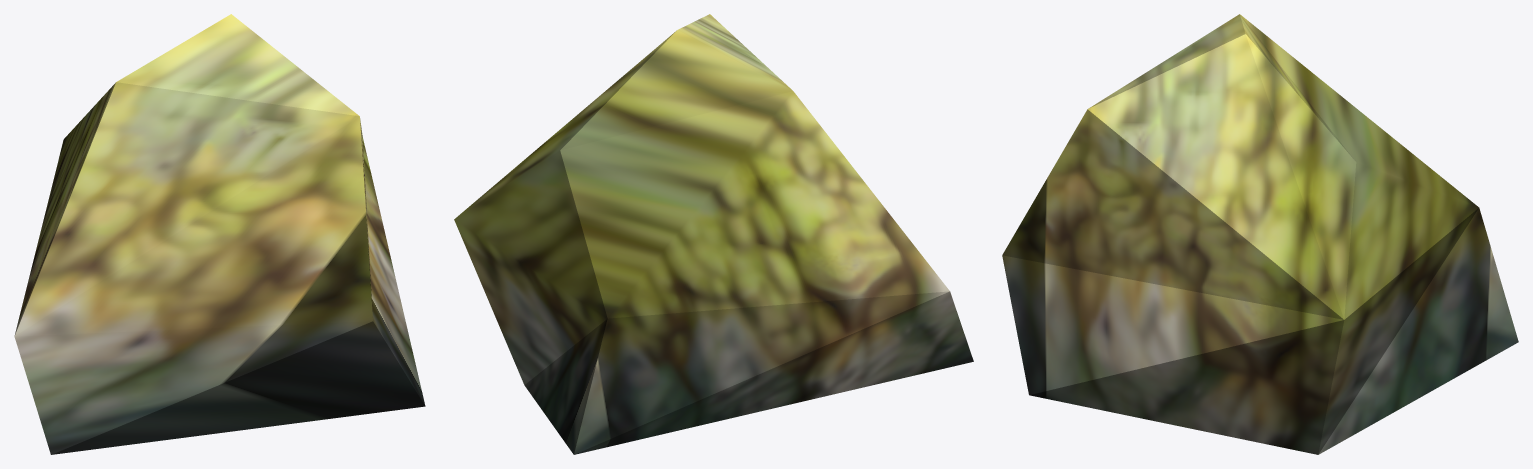
The model's file is Ridge_2_Rock.gltf.
3 views of the same model, side by side, from view 1: azimuth 30°, elevation 25°; view 2: azimuth 150°, elevation 25°; view 3: azimuth 270°, elevation 25° (orthographic). The views are drawn at different scales.
Parts seen in each view (by area): view 1: Ridge_2_Rock; view 2: Ridge_2_Rock; view 3: Ridge_2_Rock.
Boxes of the visible parts, x1,y1,x2,y2 form: Ridge_2_Rock: (14,14,425,454); Ridge_2_Rock: (454,14,973,454); Ridge_2_Rock: (1002,14,1518,454).
Bounding box in the file's own units: 10.97 × 9.03 × 11.65.
1 material, 1 textured.
